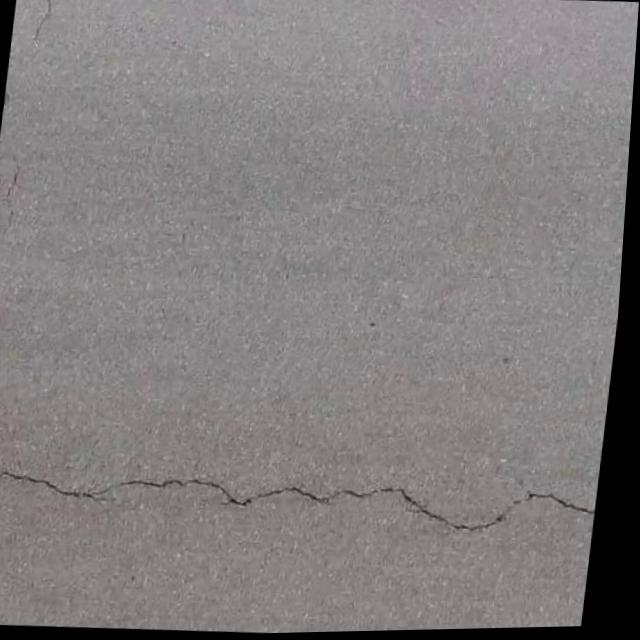Crack: (0, 405, 585, 561)
